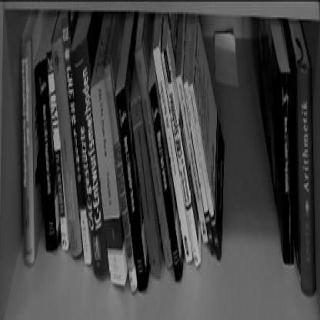book-spine: (68, 36, 110, 278), (158, 48, 203, 267), (133, 46, 174, 269), (152, 44, 193, 262), (103, 62, 138, 293), (88, 76, 125, 286), (50, 33, 84, 259), (61, 15, 91, 263), (114, 86, 149, 291), (148, 83, 184, 281), (188, 82, 222, 261), (175, 72, 209, 243), (183, 80, 216, 254), (129, 96, 161, 275), (33, 57, 58, 250), (296, 64, 316, 297), (46, 51, 69, 250), (19, 38, 35, 266), (280, 70, 294, 265)
